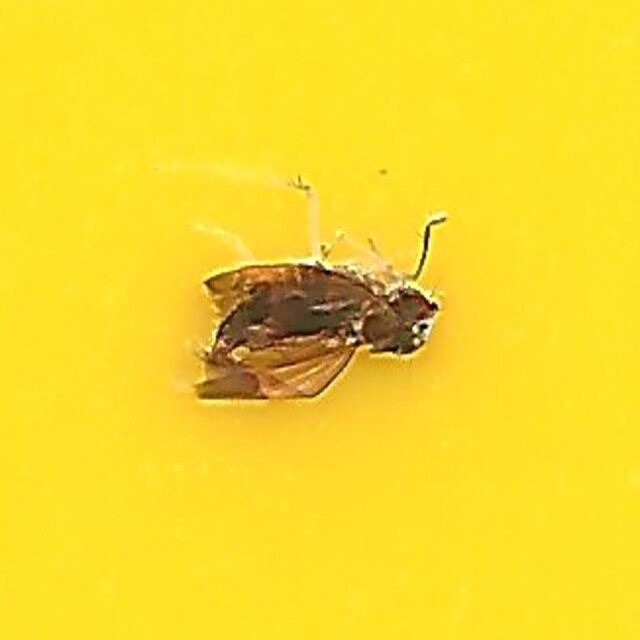Hemiptera: (196, 227, 444, 413)
